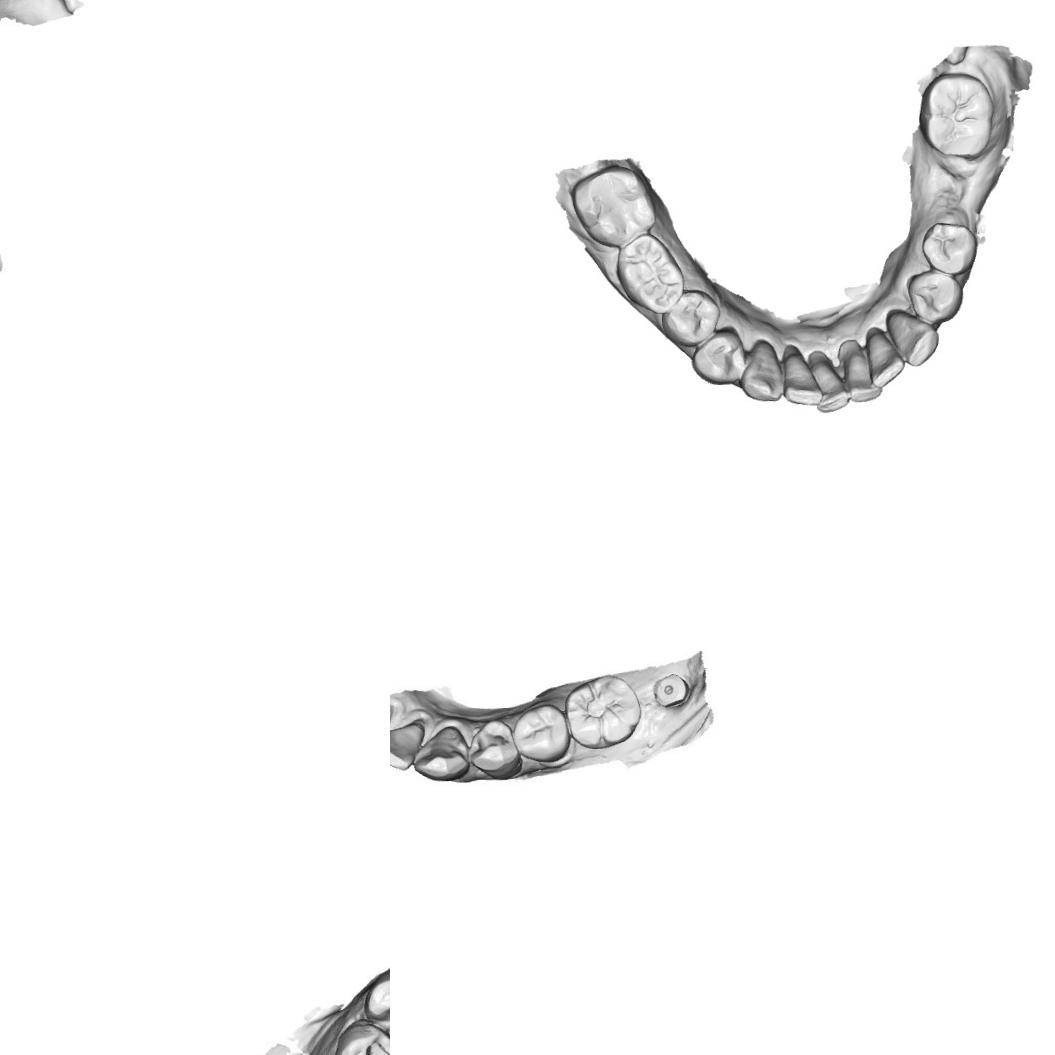canine: (884, 306, 941, 369), (411, 724, 470, 782), (738, 337, 784, 406), (360, 965, 390, 1035)
implant: (650, 672, 690, 710)
incisor: (863, 329, 909, 390), (778, 352, 825, 410), (812, 357, 853, 414), (842, 350, 883, 405), (390, 722, 425, 772)
inlay: (336, 1038, 390, 1055)
molar: (567, 161, 661, 253), (920, 66, 998, 161), (613, 230, 688, 318), (563, 673, 644, 751)
premolar: (657, 286, 722, 348), (510, 703, 572, 764), (917, 218, 980, 278), (688, 324, 746, 387), (467, 718, 523, 781), (905, 268, 964, 327)
